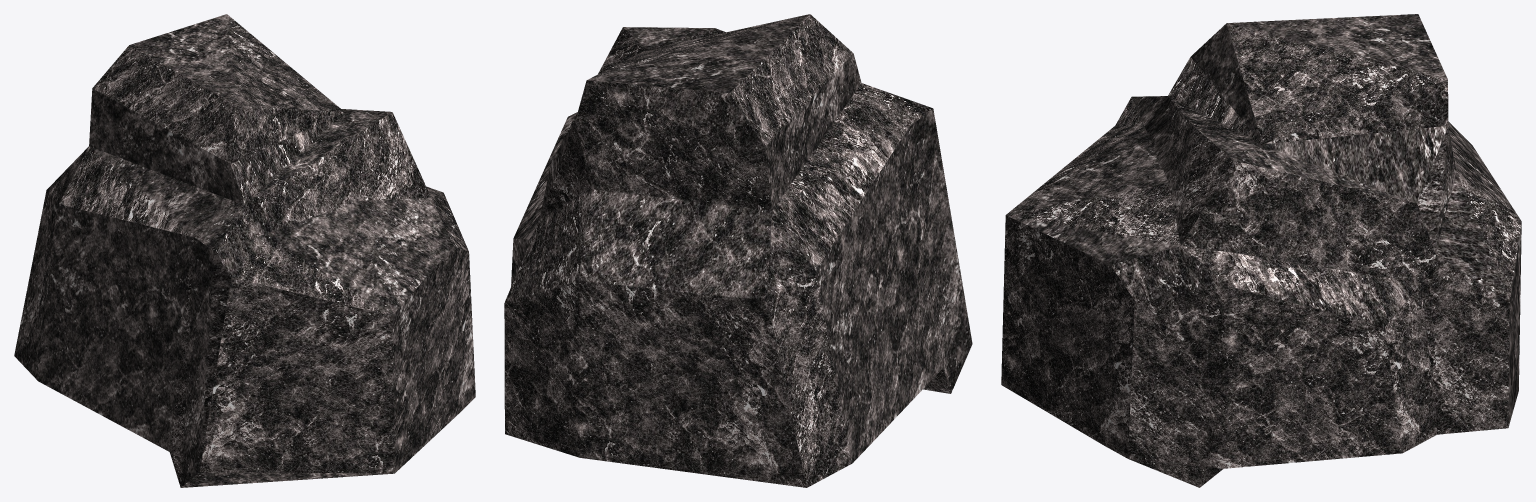
File: rocha_d.glb
The picture shows the model from 3 angles, left to right: view 1: azimuth 30°, elevation 25°; view 2: azimuth 150°, elevation 25°; view 3: azimuth 270°, elevation 25°; orthographic projection. The views are drawn at different scales.
Parts seen in each view (by area): view 1: Rock_7_Cube.030; view 2: Rock_7_Cube.030; view 3: Rock_7_Cube.030.
Boxes of the visible parts, bbox=[...] form: Rock_7_Cube.030: bbox=[14, 14, 475, 487]; Rock_7_Cube.030: bbox=[504, 14, 972, 487]; Rock_7_Cube.030: bbox=[1001, 14, 1521, 487].
Size of the model in its own units: 0.8755 by 0.8494 by 1.1.
Materials: 1 (1 with a texture image).
